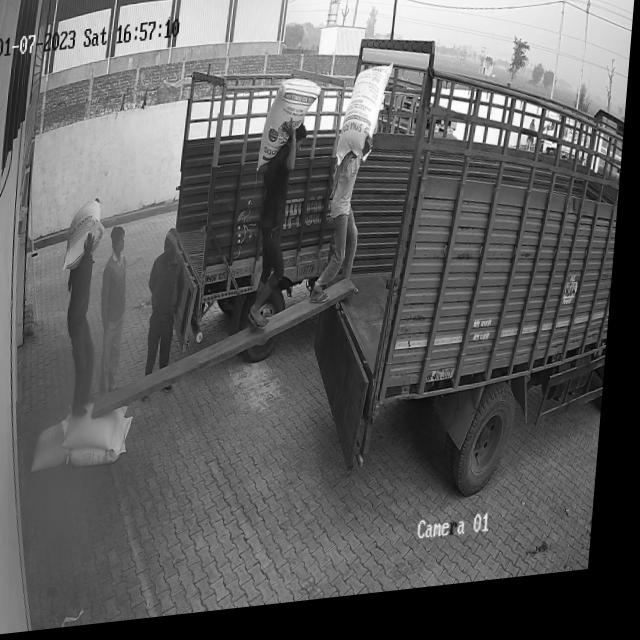sack: (260, 83, 324, 177), (338, 73, 395, 173), (73, 419, 140, 470), (67, 409, 135, 459), (67, 199, 110, 273), (37, 423, 78, 474)
